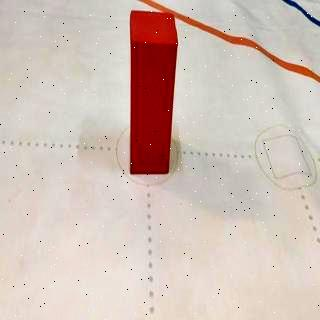redbox: (129, 8, 177, 175)
